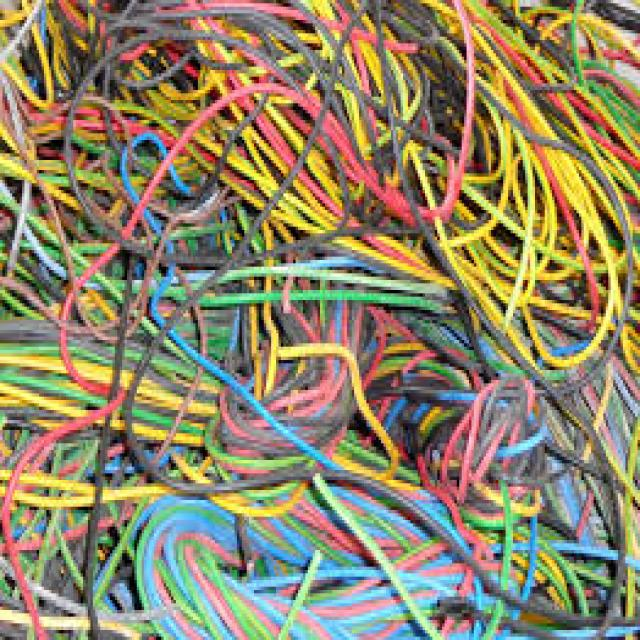Hazard: (0, 0, 640, 631)
